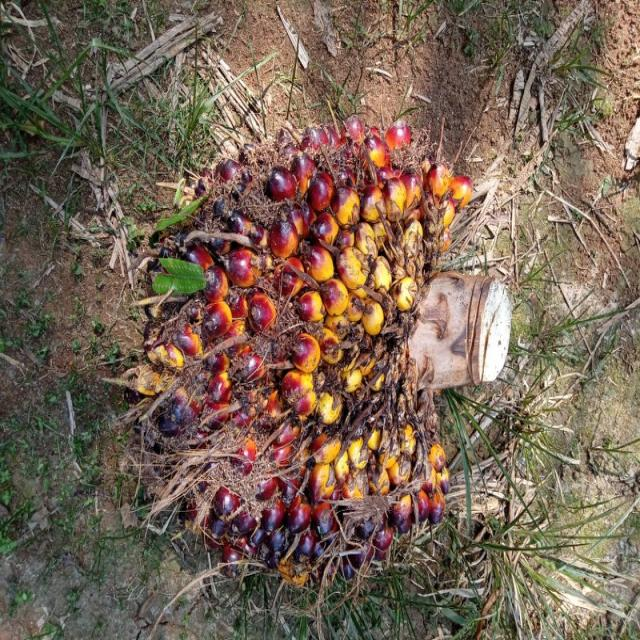fraksi 00: (111, 130, 485, 566)
